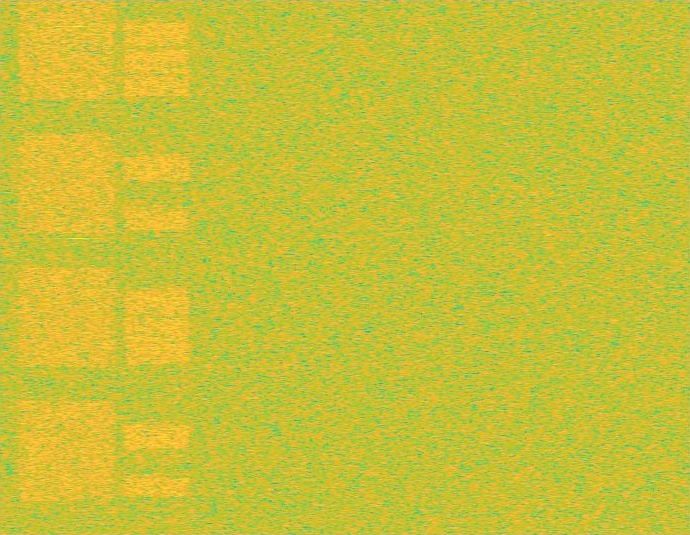5G: (15, 0, 119, 534)
LTE: (122, 0, 191, 534)
Radar: (72, 0, 85, 534)
